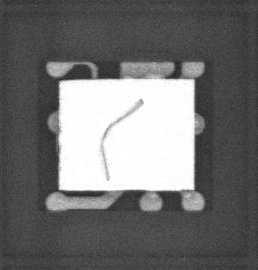DIE_INK: (94, 103, 137, 189)
